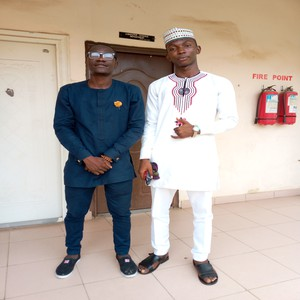Fulokoja_male_student: (56, 42, 137, 275), (145, 32, 218, 288)
